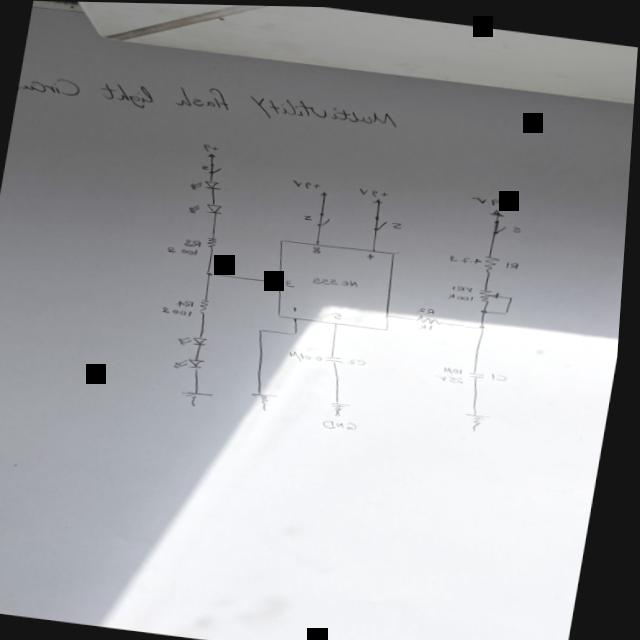capacitor: (327, 352, 350, 360), (471, 367, 491, 376)
diode: (189, 198, 227, 215), (190, 175, 226, 191), (176, 353, 210, 369), (180, 332, 213, 346)
ground: (182, 386, 219, 407), (251, 388, 284, 410), (466, 409, 498, 430), (333, 398, 356, 415)
junction: (207, 268, 220, 274), (480, 320, 491, 327), (296, 327, 304, 333), (483, 305, 492, 310), (260, 325, 269, 330), (506, 307, 513, 312), (511, 292, 518, 295)
resistor: (484, 251, 505, 271), (480, 285, 504, 301), (418, 311, 452, 322), (200, 295, 213, 312), (207, 235, 221, 246)
source: (490, 203, 509, 214), (373, 194, 386, 201), (209, 150, 219, 156), (321, 188, 331, 194)
switch: (373, 211, 391, 229), (492, 215, 510, 232), (319, 209, 334, 225), (209, 161, 225, 173)
text: (16, 60, 405, 138), (314, 272, 364, 287), (324, 415, 364, 430), (291, 346, 328, 362), (470, 191, 515, 204), (450, 250, 487, 263), (291, 176, 325, 188), (358, 184, 392, 195), (168, 243, 202, 254), (164, 304, 197, 315), (439, 370, 469, 380), (448, 289, 478, 299), (446, 362, 469, 373), (185, 235, 206, 246), (454, 280, 477, 290), (493, 368, 513, 379), (177, 296, 199, 306), (202, 140, 222, 150), (330, 308, 349, 318), (506, 257, 524, 267), (420, 319, 438, 329), (418, 303, 440, 311), (350, 355, 371, 363), (392, 218, 406, 227), (303, 211, 318, 219), (287, 276, 300, 285), (367, 249, 379, 258), (314, 243, 326, 252), (201, 161, 212, 168), (294, 303, 303, 311), (514, 222, 524, 229)
